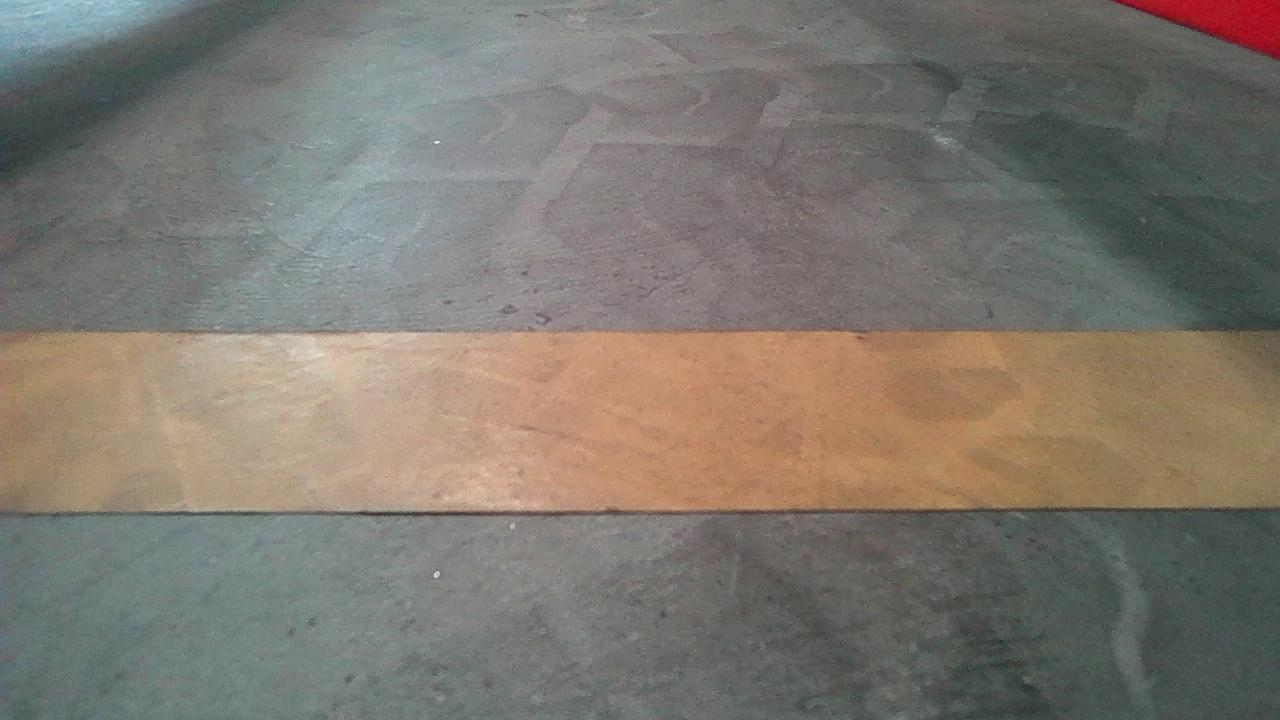yellow_line: (12, 316, 1266, 523)
